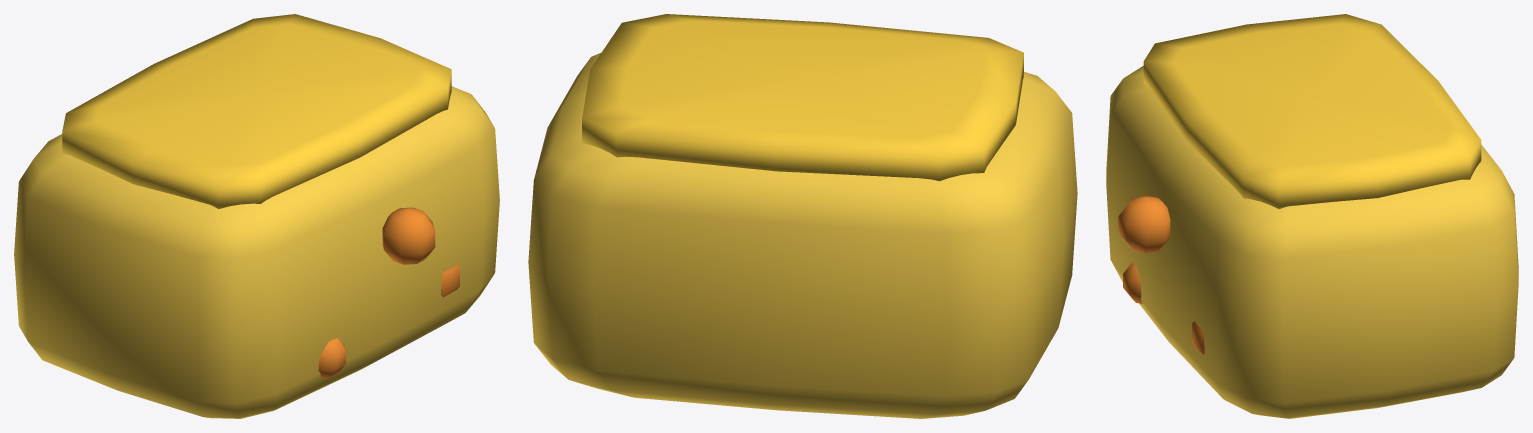
The model's file is cheese.glb.
3 views of the same model, side by side, from view 1: azimuth 30°, elevation 25°; view 2: azimuth 150°, elevation 25°; view 3: azimuth 270°, elevation 25° (orthographic). The views are drawn at different scales.
Parts seen in each view (by area): view 1: item; view 2: item; view 3: item.
Part boxes in pixels (left/top/right/bottom): item: left=14, top=14, right=499, bottom=418; item: left=528, top=14, right=1077, bottom=418; item: left=1106, top=14, right=1518, bottom=418.
Bounding box in the file's own units: 0.5162 × 0.28 × 0.4215.
Materials: 1 (1 with a texture image).
